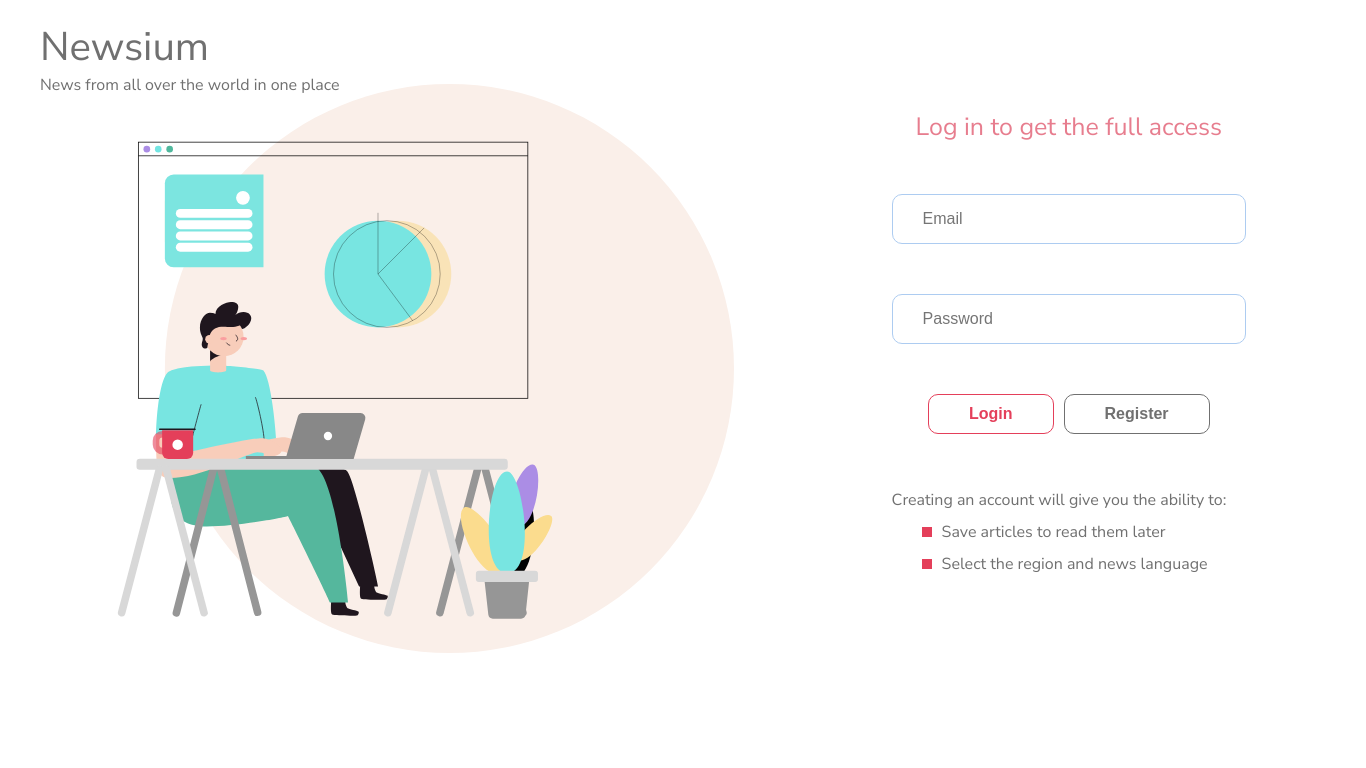
Test: PROFILE › throws an error if the form field is invalid
Type "testmail.com" into the field with placeholder "Email" at point(1069, 219), box top-left (892, 194), bottom-right (1246, 244)
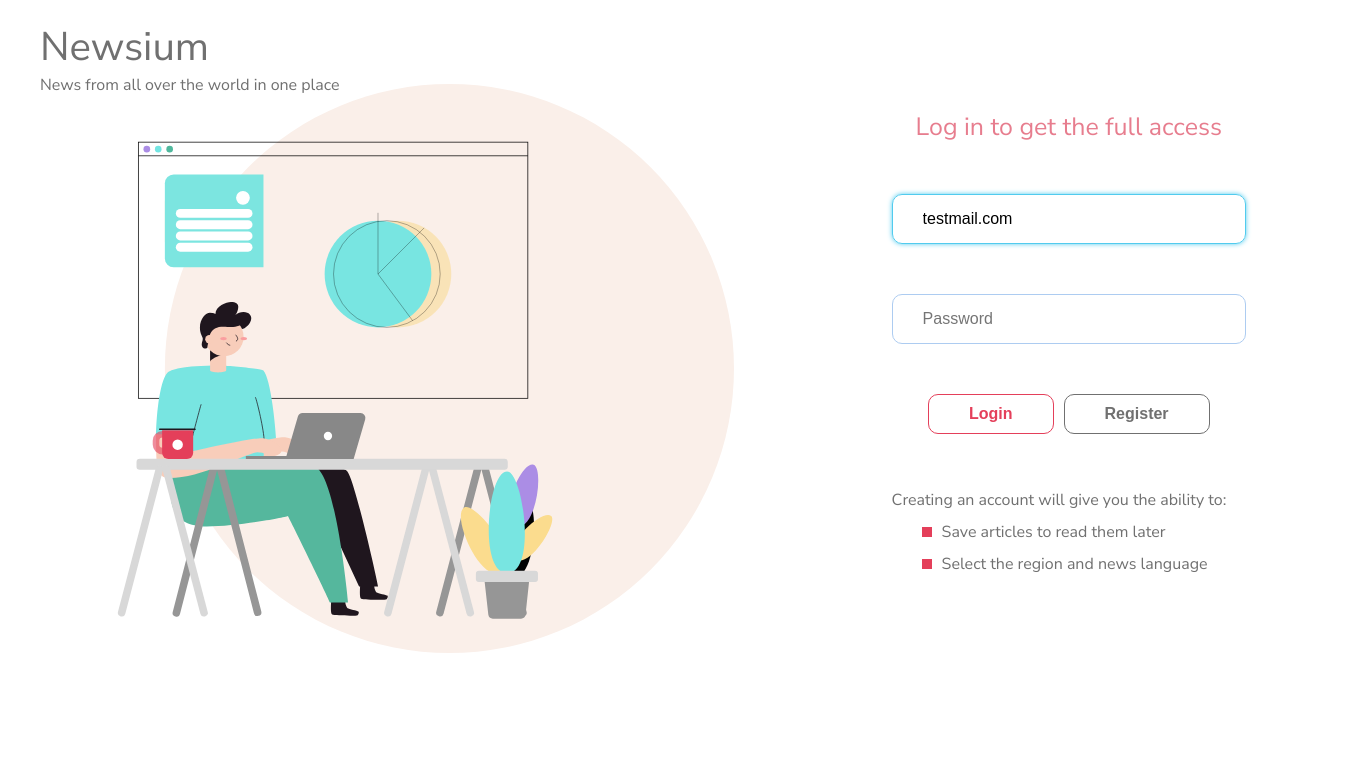
Type "12345" into the password field with placeholder "Password" at point(1069, 319), box top-left (892, 294), bottom-right (1246, 344)
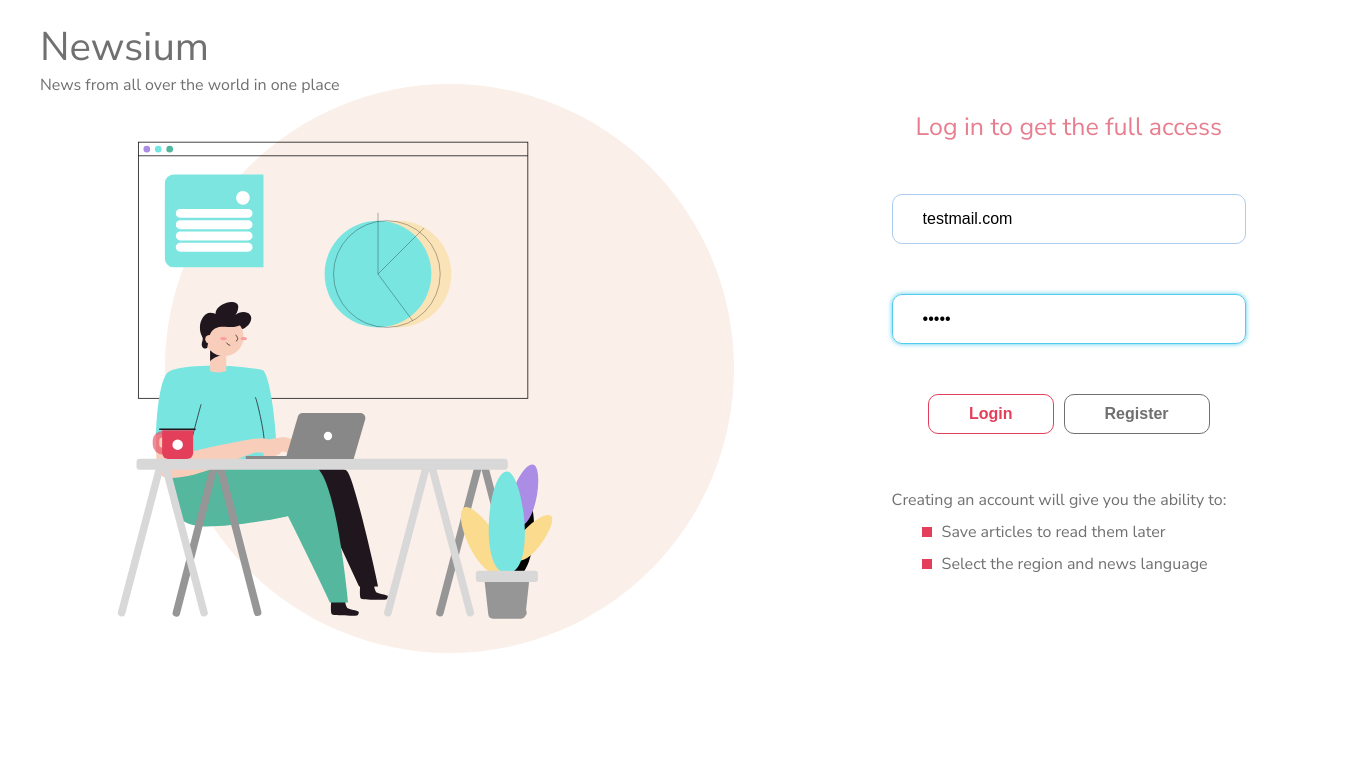
Leave the password field with placeholder "Password", box top-left (892, 294), bottom-right (1246, 344)
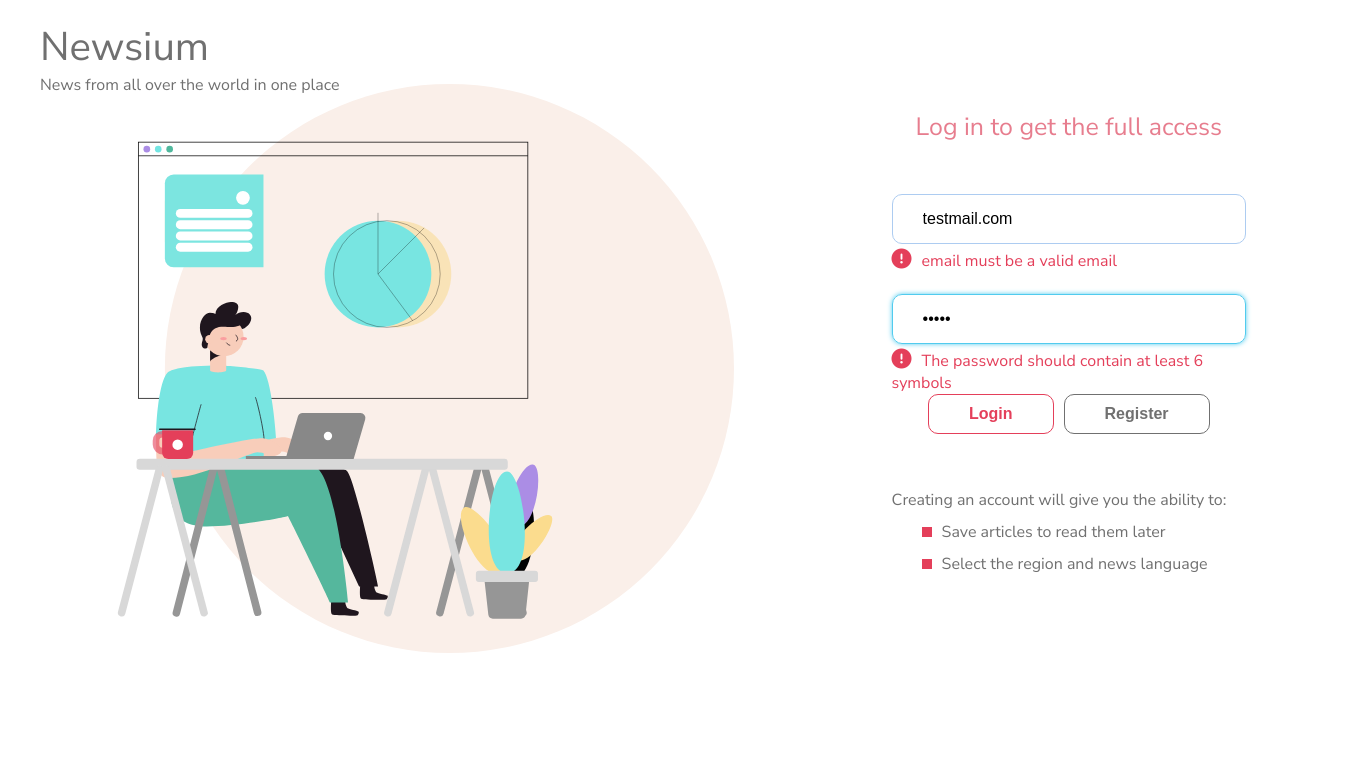
Now the text "email must be a valid email" is shown, box top-left (892, 250), bottom-right (1117, 272)
Now the text "The password should contain at least 6 symbols" is shown, box top-left (892, 350), bottom-right (1203, 394)
